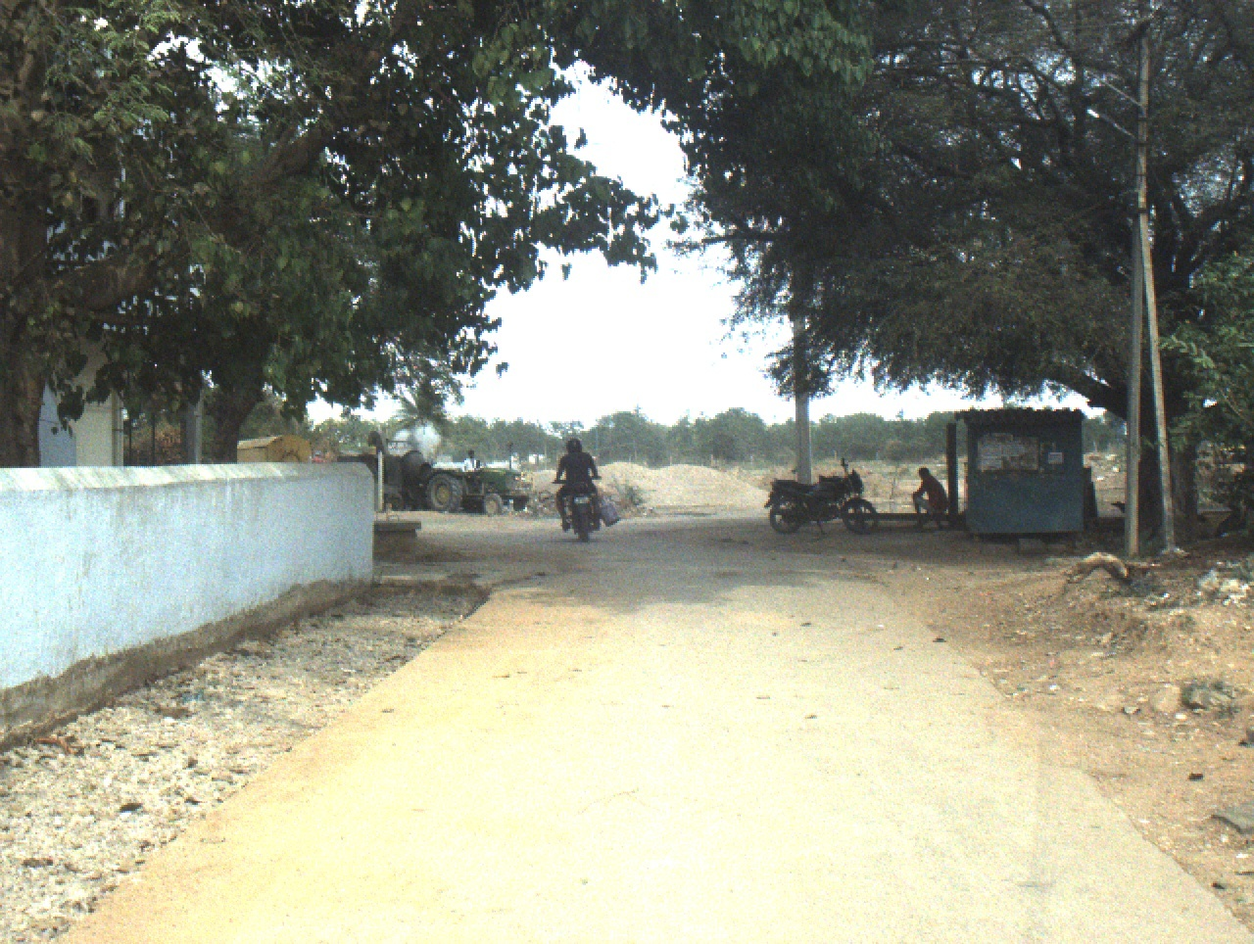motorcycle: (765, 454, 882, 537), (549, 475, 619, 543)
person: (911, 466, 947, 529)
rider: (549, 438, 603, 534), (463, 441, 484, 496)
vehicle fallback: (421, 446, 529, 520), (335, 435, 428, 513), (234, 434, 311, 465)
